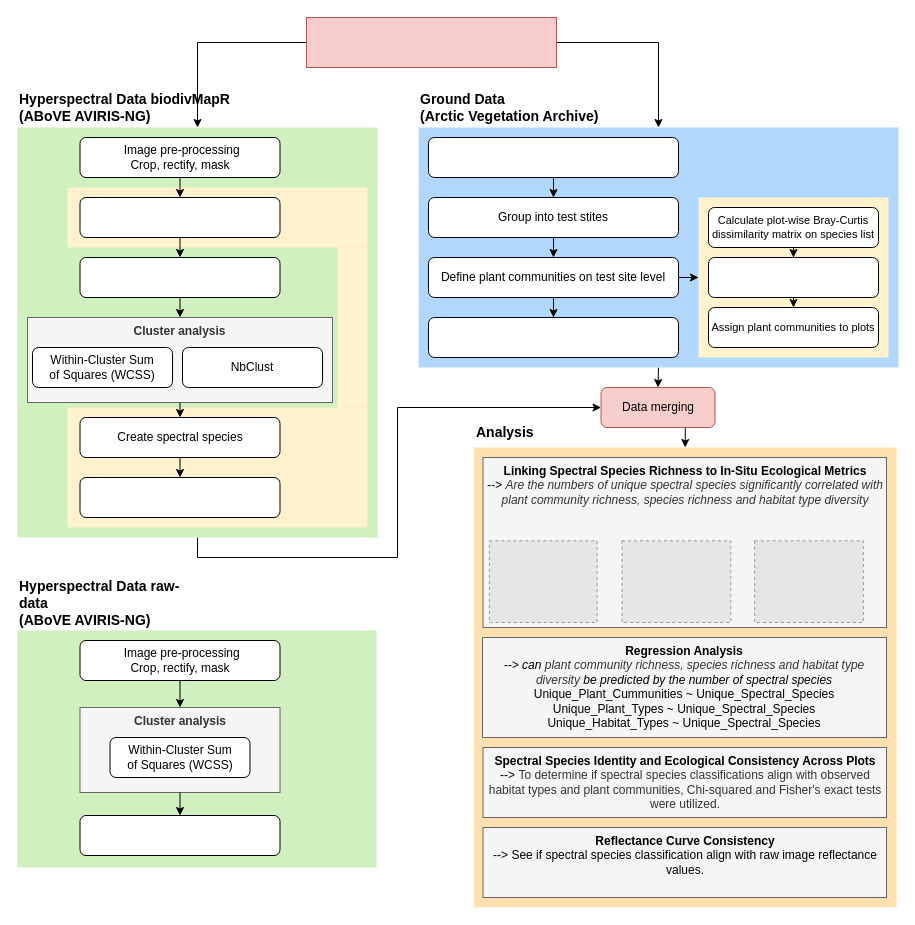
This 915x925 diagram has some shape labels left out. Grey dashed boxes stand in for pictures. The shapes that lost their labels are listed below. From the top down, each one's box as (x1, y1, x2, y2) in pixels, then its label:
(306, 16, 556, 68): Test site definition (match hyperspectral images - plots)
(428, 136, 678, 178): Extract plot data from Turboveg
(79, 196, 280, 238): Perform PCA
(79, 256, 280, 298): Select PC (manual step)
(708, 256, 878, 298): Perform HDBSCAN (define plant communities)
(337, 247, 367, 407): biodivMapR
(428, 316, 678, 358): Extract relevant indices (p lant community, plant species, habitat type)
(79, 476, 280, 518): Calculate diversity index
(79, 814, 280, 856): kmeans clustering Create spectral species
